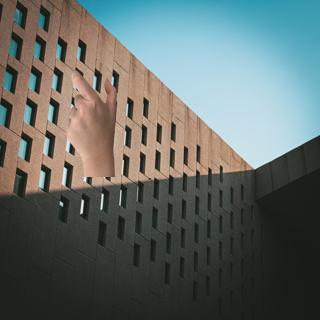Irritated: (65, 70, 121, 178)
